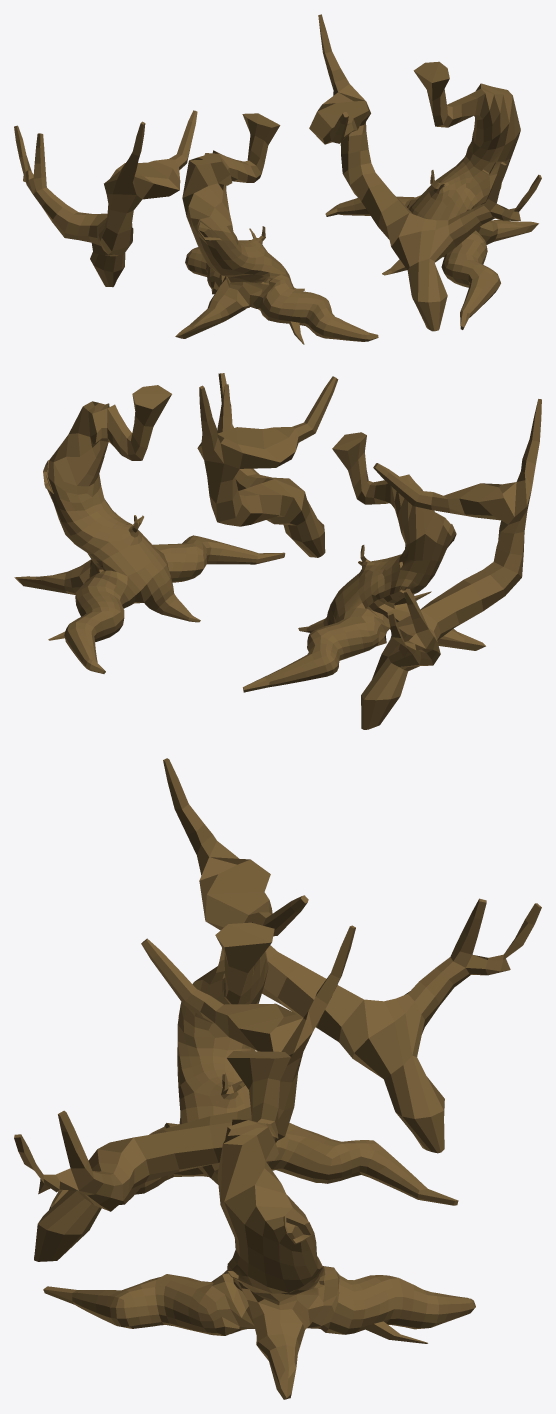
File: Stumps.obj
3 renders of one model, top to bottom at view 1: azimuth 30°, elevation 25°; view 2: azimuth 150°, elevation 25°; view 3: azimuth 270°, elevation 25°, orthographic. The views are drawn at different scales.
Visible parts, largest first — view 1: Tree3:Zbrush_Swamp_Tree:Group60456, Group60456, RootsAndTwigs:Tree3:Zbrush_Swamp_Tree:Group60456, Group60458; view 2: Group60456, Tree3:Zbrush_Swamp_Tree:Group60456, Group60458, RootsAndTwigs:Tree3:Zbrush_Swamp_Tree:Group60456; view 3: Group60456, Group60458, RootsAndTwigs:Tree3:Zbrush_Swamp_Tree:Group60456, Tree3:Zbrush_Swamp_Tree:Group60456.
Part boxes in pixels (x1,y1,x2,y2): Tree3:Zbrush_Swamp_Tree:Group60456: [175, 113, 378, 344]; Group60456: [325, 61, 538, 329]; RootsAndTwigs:Tree3:Zbrush_Swamp_Tree:Group60456: [309, 14, 541, 331]; Group60458: [14, 110, 197, 287]; Group60456: [14, 385, 285, 673]; Tree3:Zbrush_Swamp_Tree:Group60456: [243, 432, 485, 692]; Group60458: [361, 399, 541, 729]; RootsAndTwigs:Tree3:Zbrush_Swamp_Tree:Group60456: [197, 373, 338, 557]; Group60456: [43, 1051, 475, 1399]; Group60458: [163, 758, 541, 1153]; RootsAndTwigs:Tree3:Zbrush_Swamp_Tree:Group60456: [14, 925, 355, 1261]; Tree3:Zbrush_Swamp_Tree:Group60456: [49, 922, 458, 1209].
Bounding box in the file's own units: 78.81 × 41.15 × 56.48.
